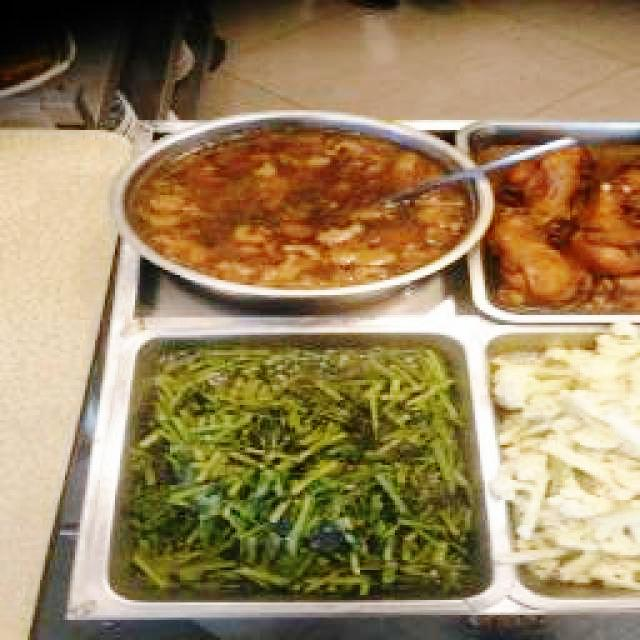curry: (143, 130, 468, 281)
water_spinach: (150, 346, 469, 595)
